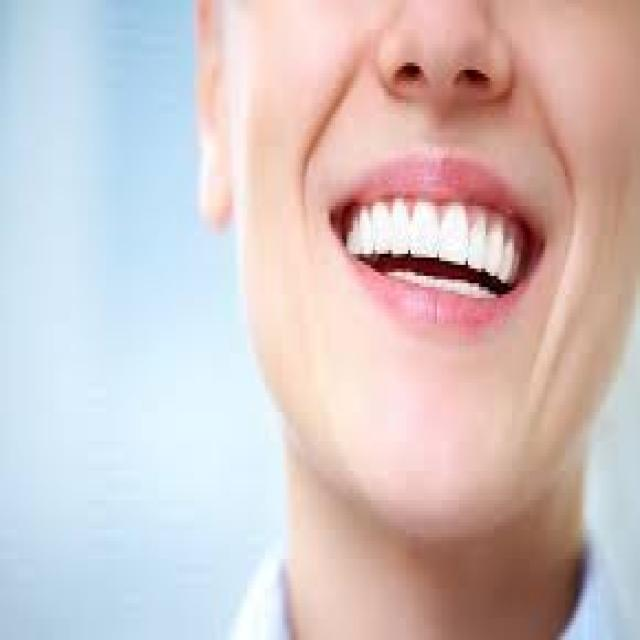tooth: (441, 210, 466, 261), (417, 206, 437, 254), (472, 206, 483, 268), (360, 214, 375, 258), (398, 202, 410, 254), (488, 220, 501, 268), (501, 228, 510, 283), (382, 210, 393, 253), (346, 217, 356, 254), (514, 250, 521, 280)
